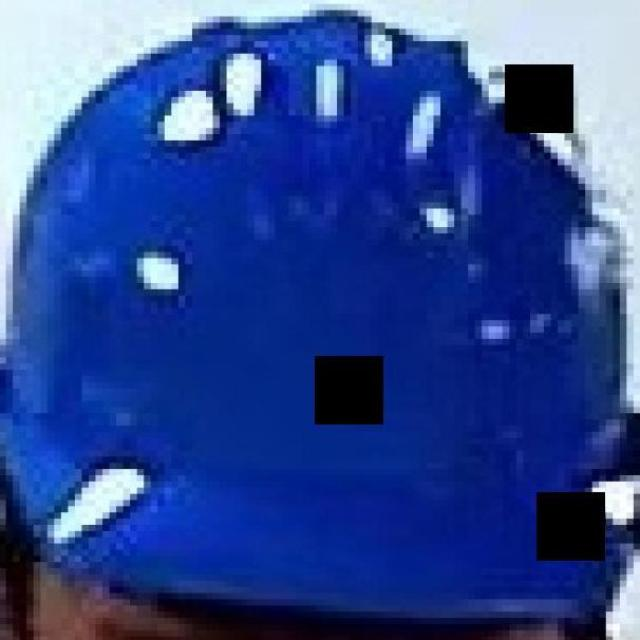blue helmet: (6, 14, 640, 624)
